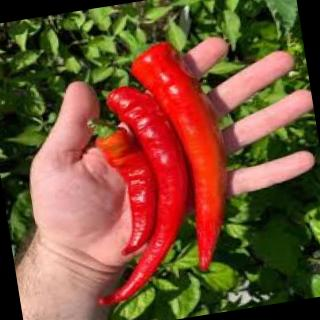Cabai Merah: (126, 35, 242, 285), (102, 131, 161, 257)
